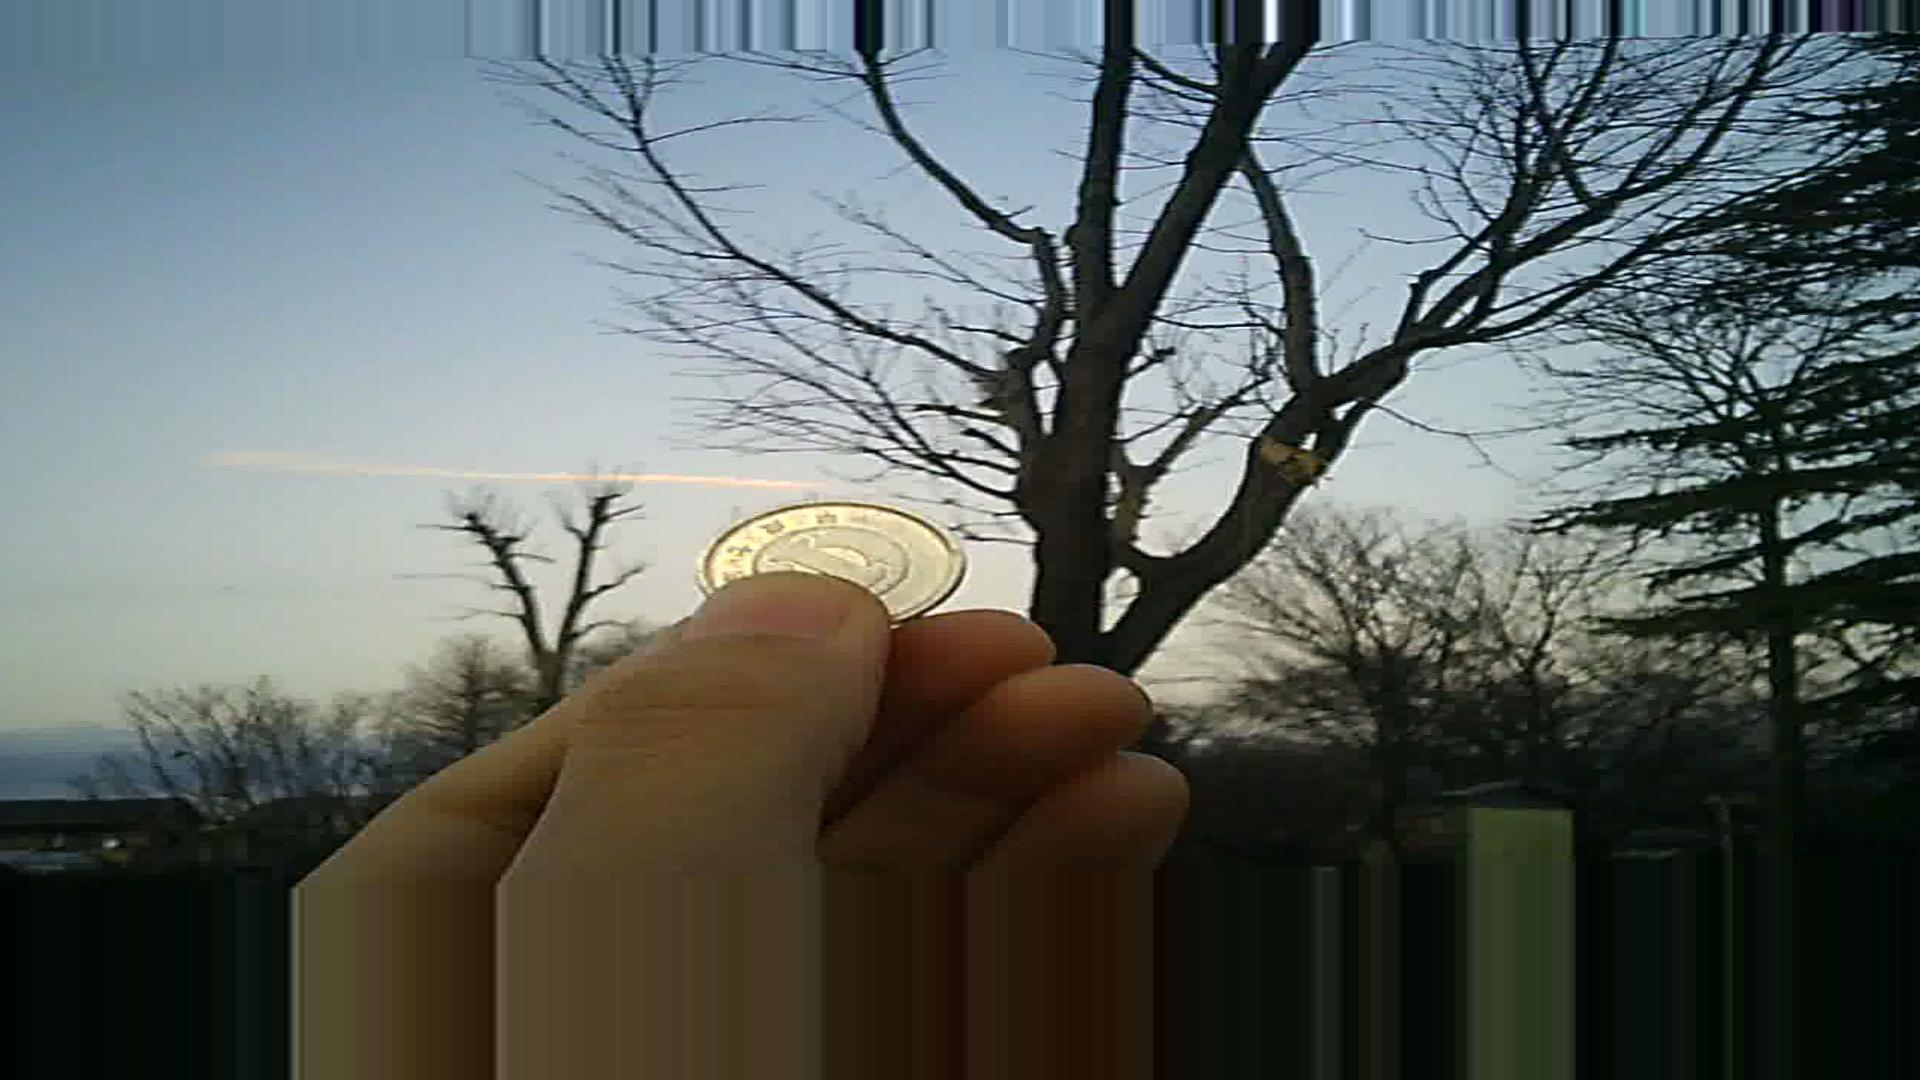1 Yen: (692, 492, 971, 633)
